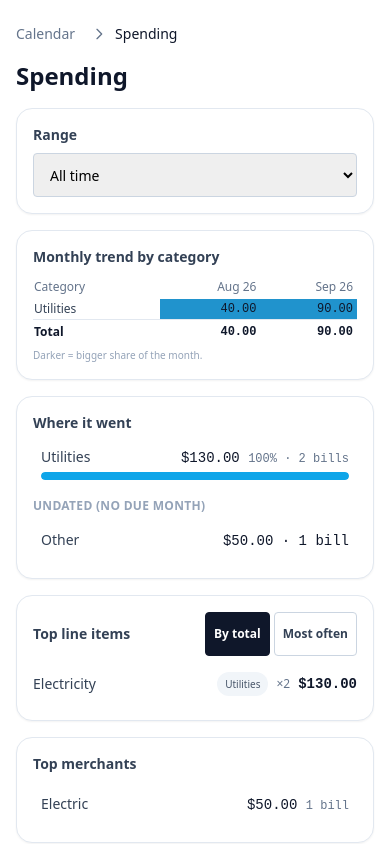
Scenario: Spending page (#032) › renders the Undated row under All time and drills into it
The width and height of the screenshot is (390, 844).
Expected: the text "Undated (no due month)" is shown, [33, 497, 205, 514]
Step 1. Click the button "Other $50.00 · 1 bill" → coordinates (60, 539), box [33, 518, 357, 562]
(page scrolled)
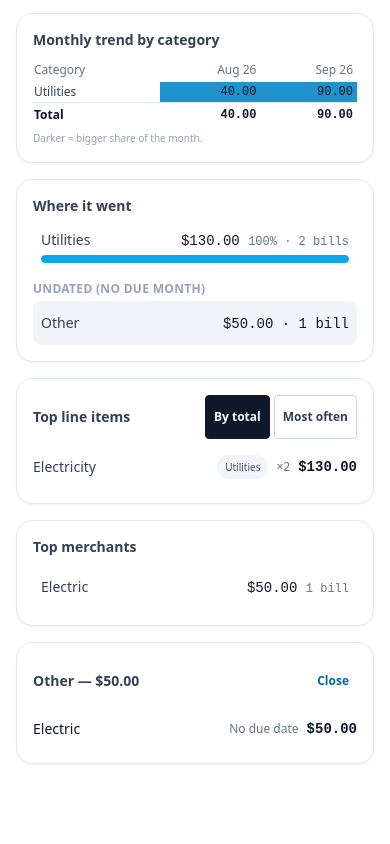
Now the heading "Other — $50.00" is shown, box [33, 671, 139, 691]
Now the text "No due date" is shown, box [229, 721, 299, 737]
